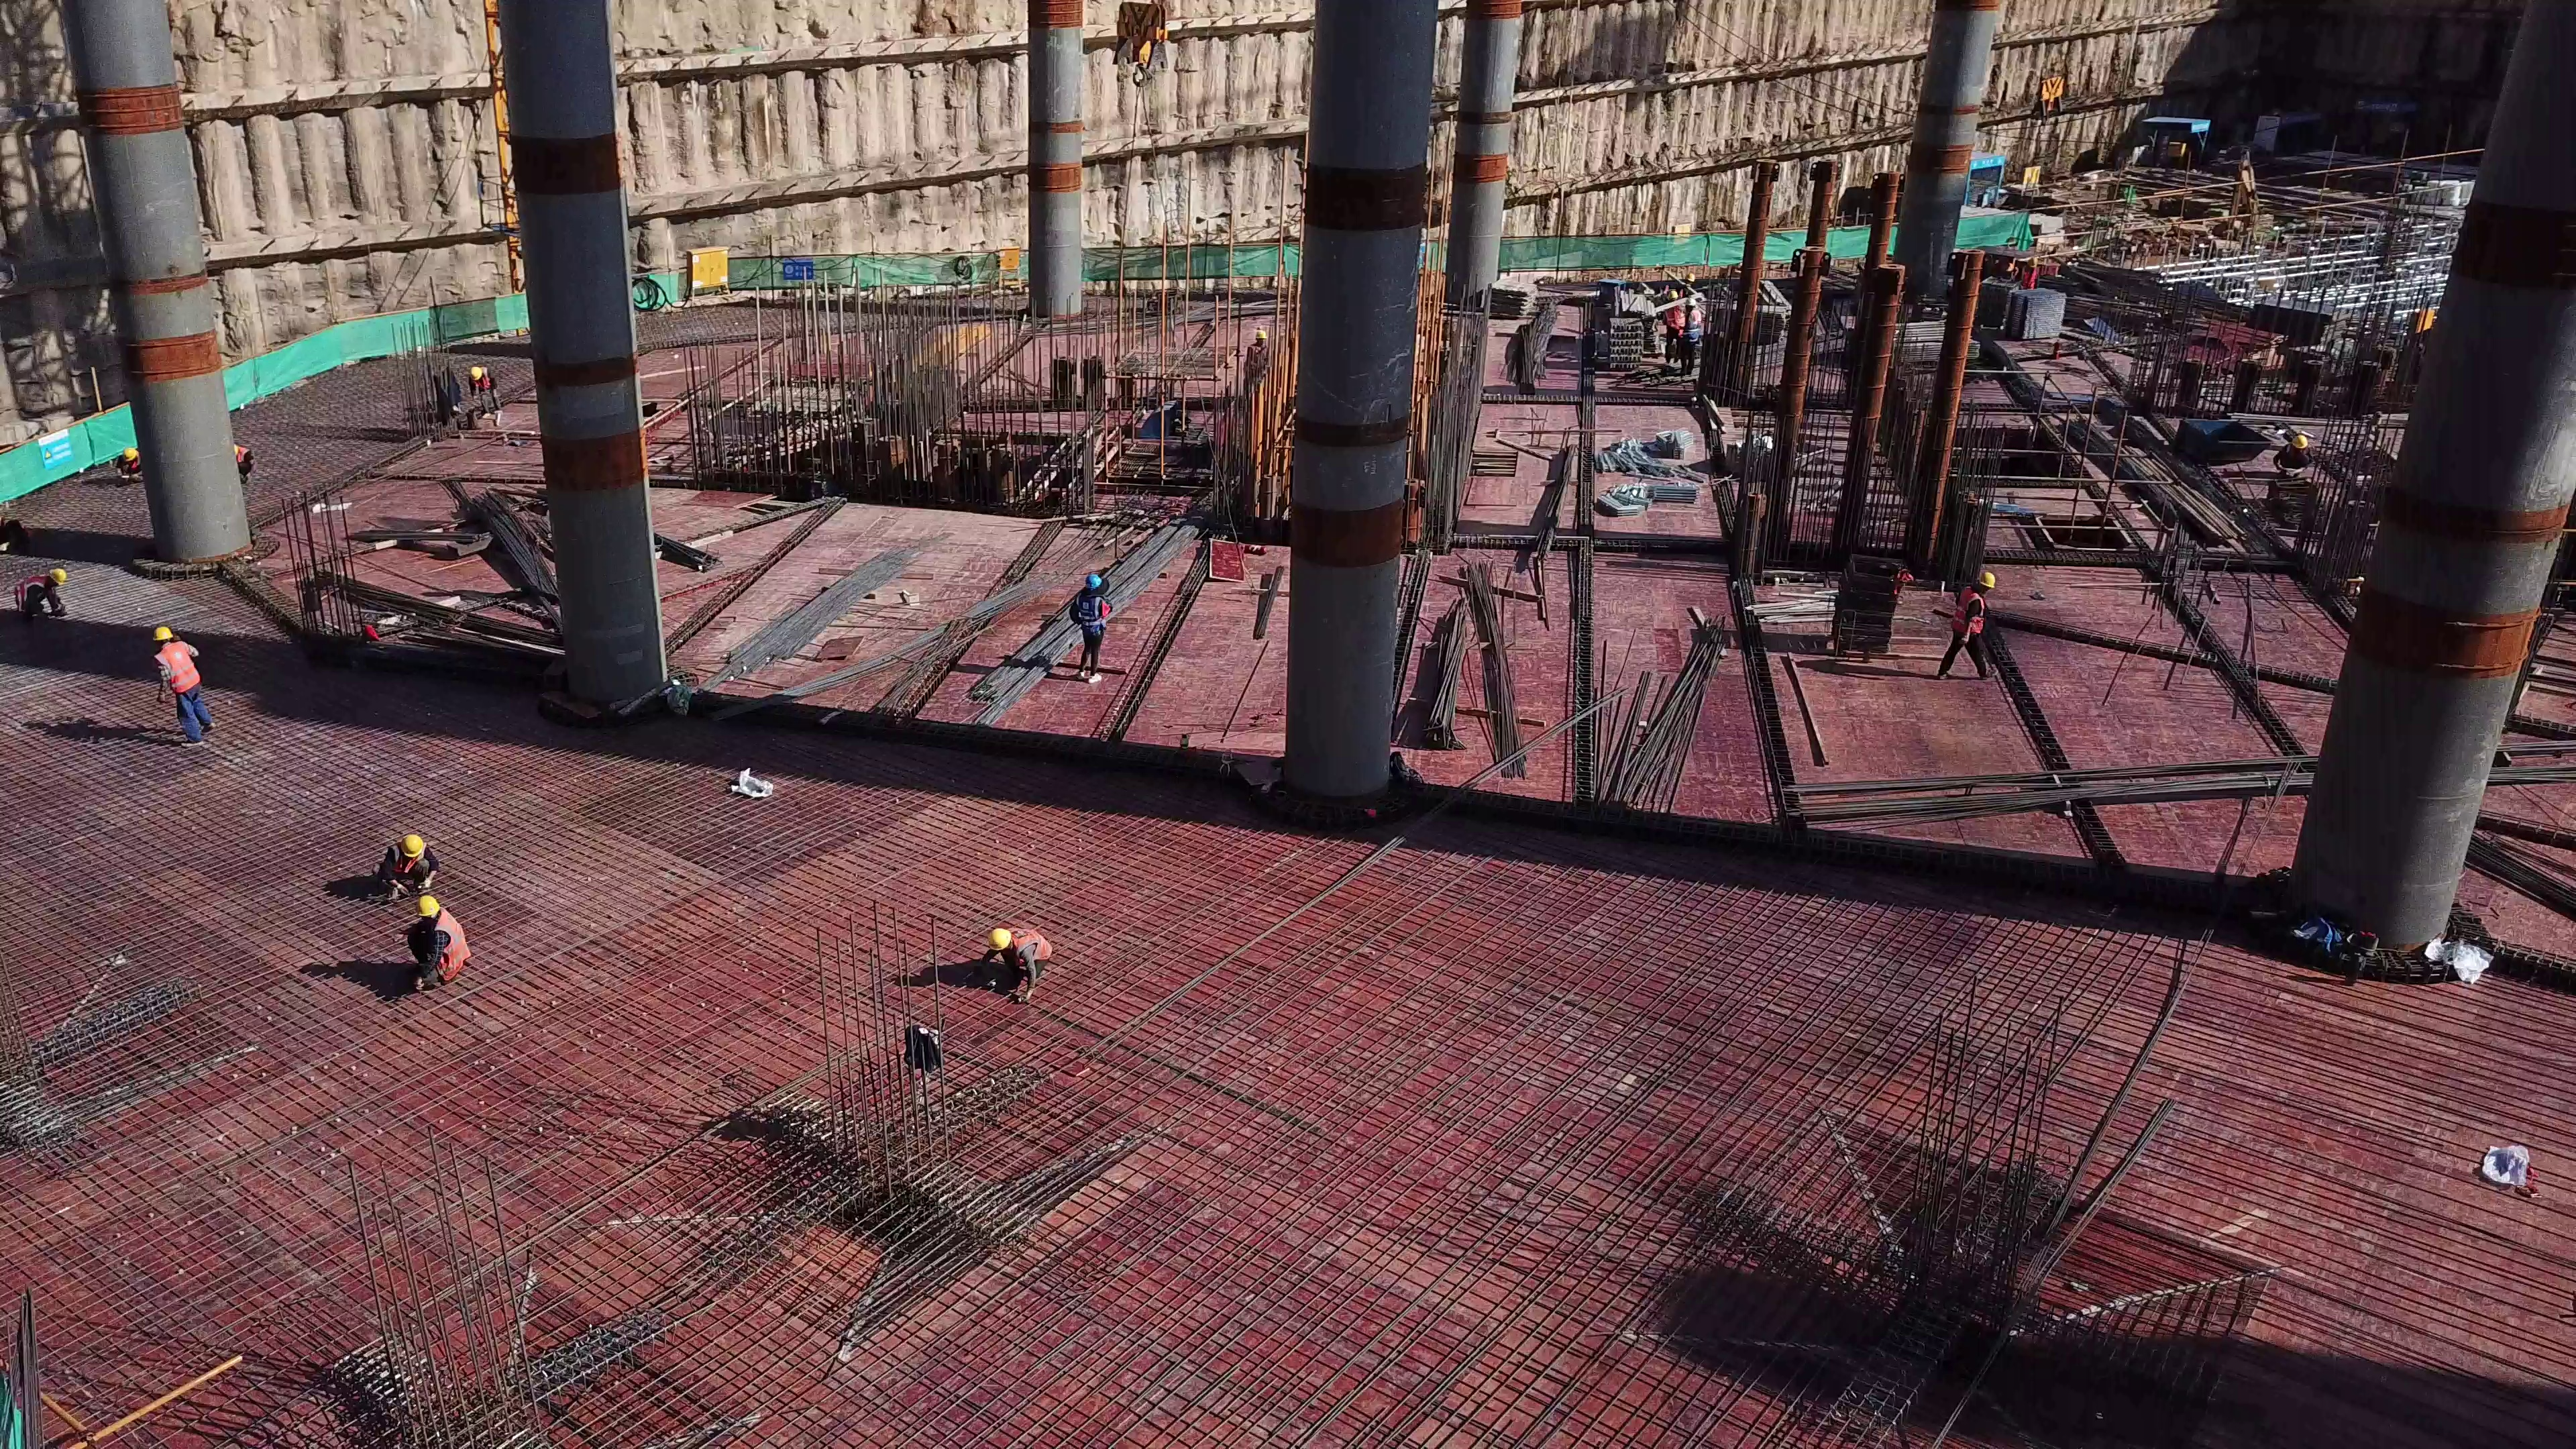ebox: (676, 239, 736, 294)
helmet: (411, 892, 442, 922), (986, 925, 1019, 951), (403, 836, 425, 861), (1976, 572, 2006, 589), (119, 447, 141, 470), (151, 623, 171, 644), (1080, 576, 1105, 592), (46, 568, 64, 585), (2291, 436, 2308, 451), (465, 366, 481, 378), (1664, 290, 1680, 301), (1682, 273, 1697, 283), (1684, 297, 1696, 307)
hook: (1108, 1, 1177, 81), (2025, 72, 2073, 123)
person: (387, 887, 472, 992), (148, 623, 209, 749), (975, 924, 1061, 1008), (1945, 572, 1995, 682), (1071, 574, 1114, 684), (369, 830, 433, 896), (13, 570, 62, 623), (1680, 299, 1703, 377), (2275, 435, 2312, 482), (1660, 290, 1682, 358), (470, 368, 500, 419)
rebar: (706, 545, 1033, 693), (1765, 762, 2350, 839), (997, 519, 1200, 727), (1584, 606, 1737, 829), (1419, 573, 1528, 769), (458, 481, 568, 647), (1525, 439, 1570, 563), (1507, 292, 1553, 394)
scaffold: (1595, 429, 1692, 517), (1888, 322, 1975, 362), (2010, 290, 2061, 337)
vest: (428, 914, 488, 978), (152, 640, 207, 700), (1073, 594, 1109, 646), (1004, 925, 1049, 964), (1957, 591, 1988, 639), (13, 577, 47, 606), (1684, 311, 1700, 339), (1668, 306, 1682, 329)
